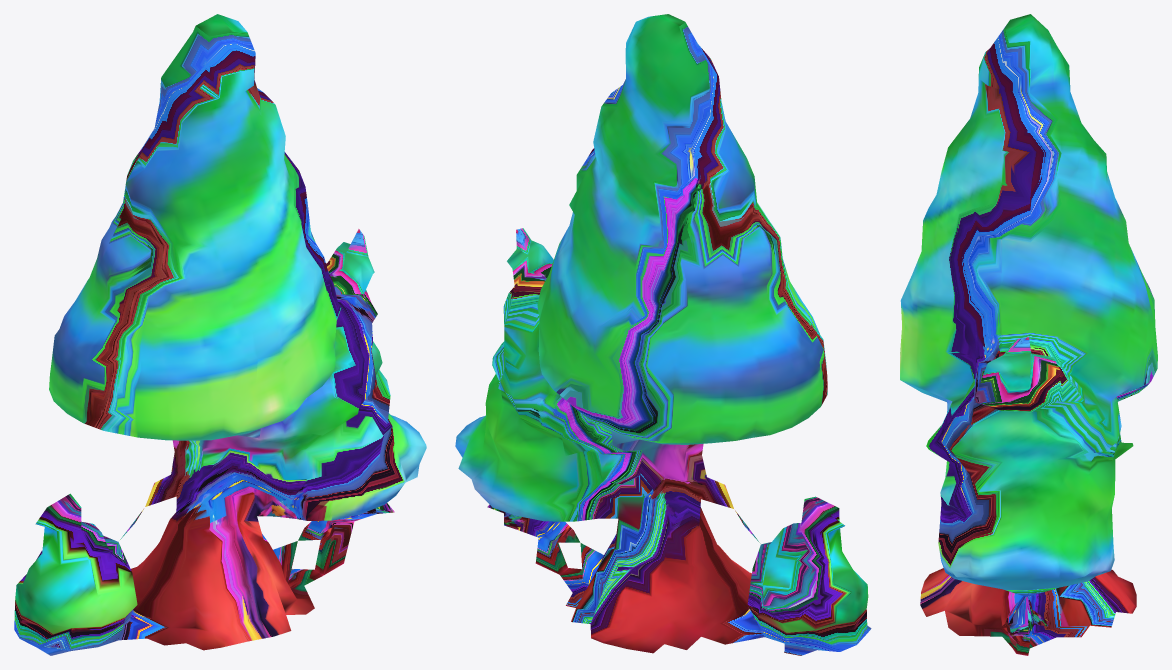
3 views of the same model, side by side, from view 1: azimuth 30°, elevation 25°; view 2: azimuth 150°, elevation 25°; view 3: azimuth 270°, elevation 25° (orthographic).
Parts seen in each view (by area): view 1: model.004; view 2: model.004; view 3: model.004.
Part boxes in pixels (x1=…): model.004: x1=14, y1=14, x2=426, y2=655; model.004: x1=455, y1=14, x2=871, y2=655; model.004: x1=900, y1=14, x2=1157, y2=655.
Size of the model in its own units: 0.8273 by 1.2 by 0.4747.
Materials: 1 (1 with a texture image).
